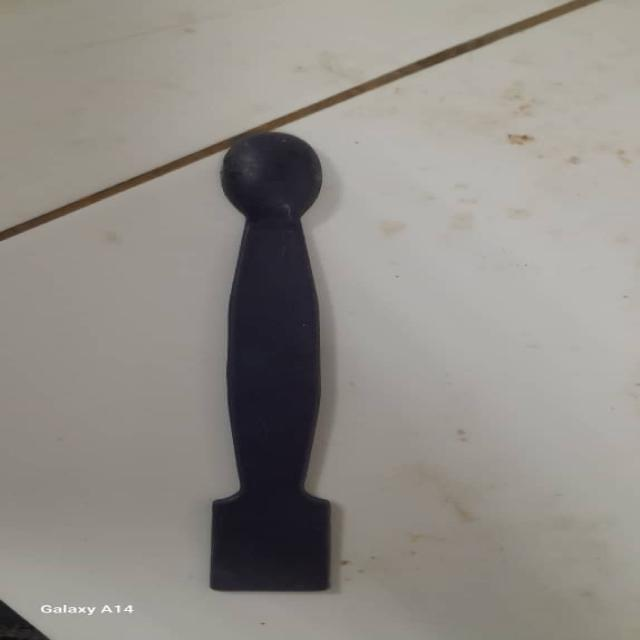Spatula: (208, 122, 355, 592)
